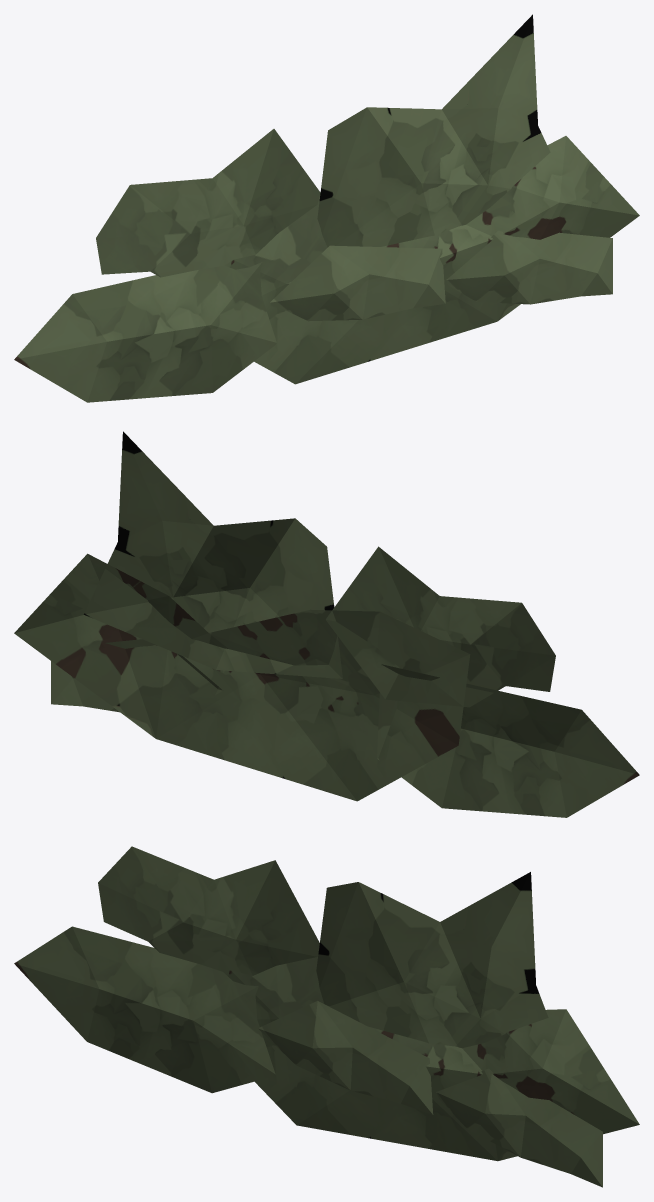
File: SM_Gen_Env_Ivy_11.gltf
3 views of the same model, one above another, from view 1: azimuth 30°, elevation 25°; view 2: azimuth 150°, elevation 25°; view 3: azimuth 330°, elevation 25° (orthographic).
Visible parts, largest first — view 1: SM_Gen_Env_Ivy_11; view 2: SM_Gen_Env_Ivy_11; view 3: SM_Gen_Env_Ivy_11.
Part boxes in pixels (<box>): SM_Gen_Env_Ivy_11: <box>14,14,639,402</box>; SM_Gen_Env_Ivy_11: <box>14,431,639,817</box>; SM_Gen_Env_Ivy_11: <box>14,846,639,1187</box>.
Size of the model in its own units: 2.97 by 1.42 by 0.0944.
1 material, 1 textured.
